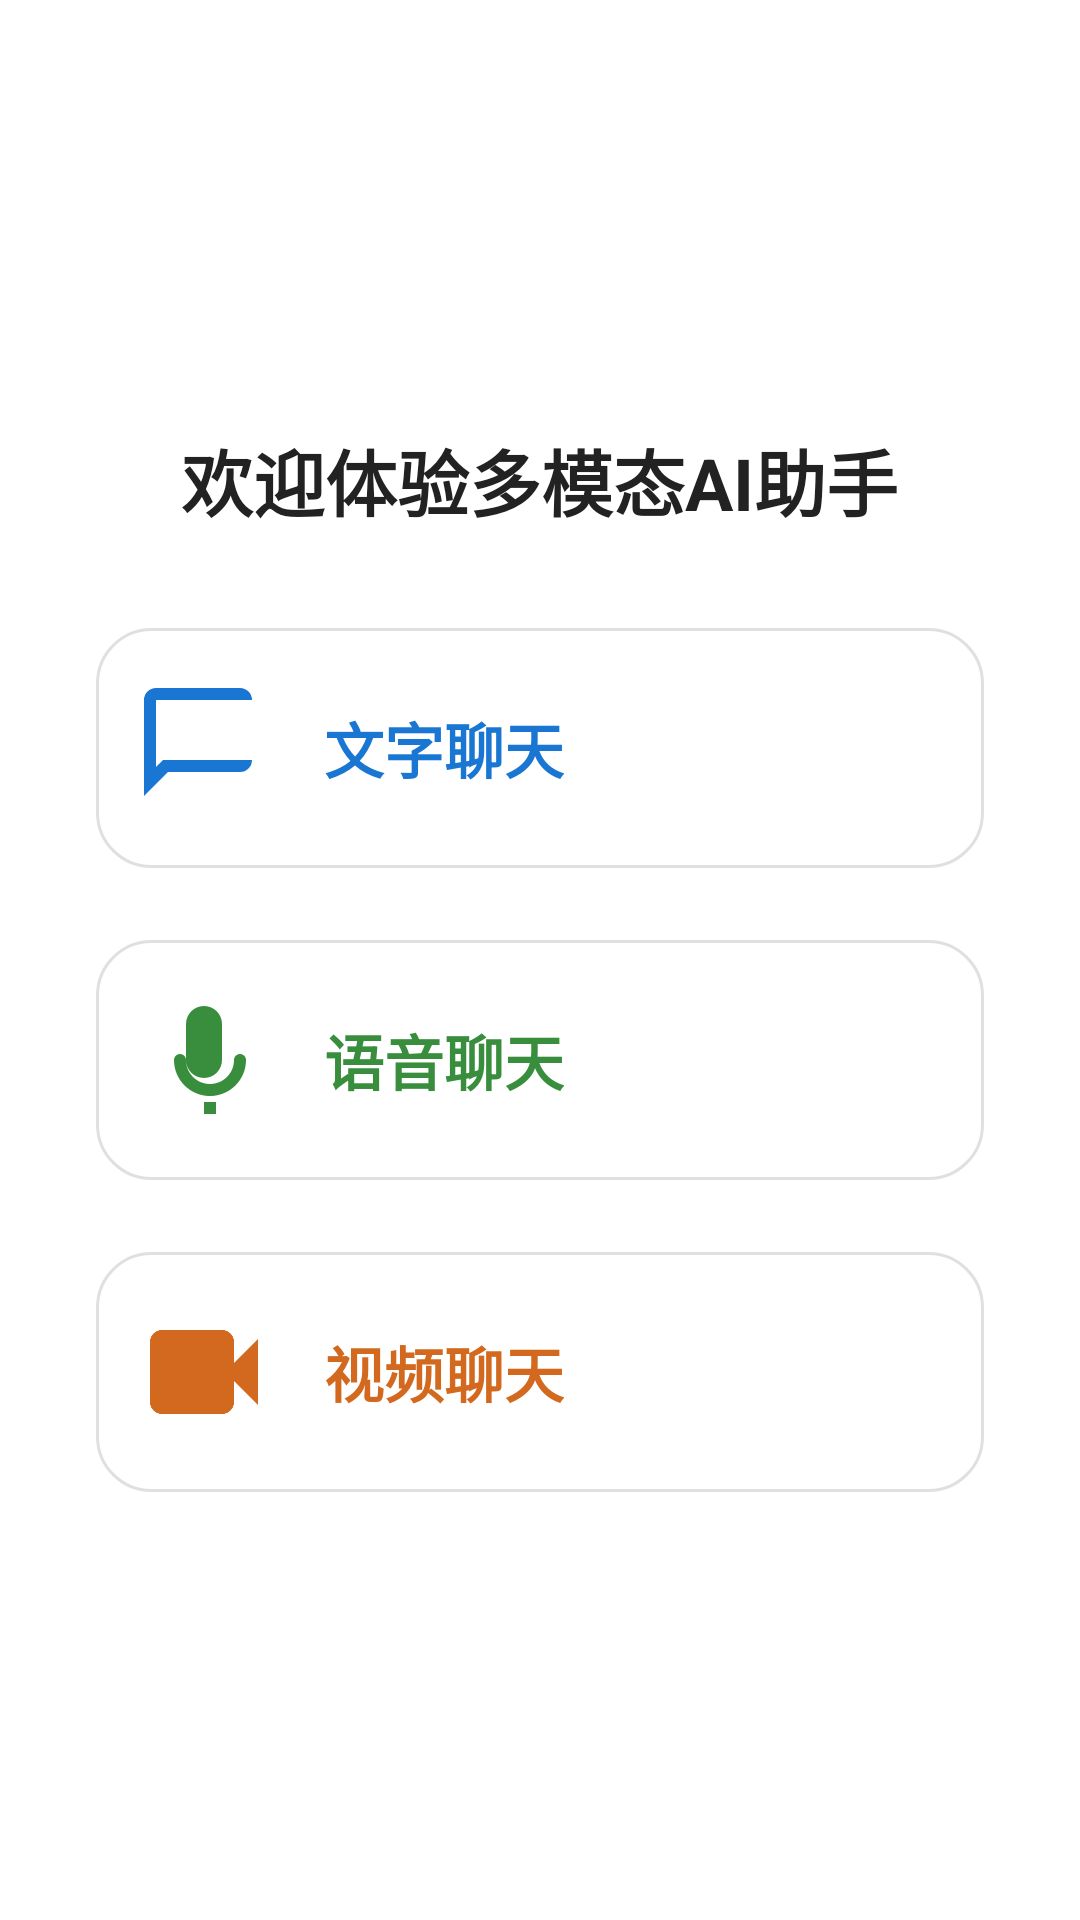

Where to tap for icons on this 1080px×1920px app screen, as point (x, y):
text chat: point (198, 742)
video chat: point (204, 1372)
voice chat: point (210, 1060)
